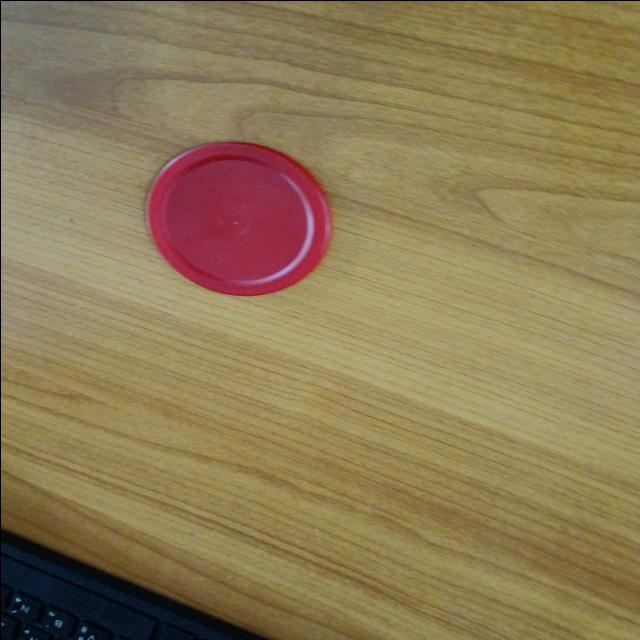chip: (144, 140, 336, 298)
